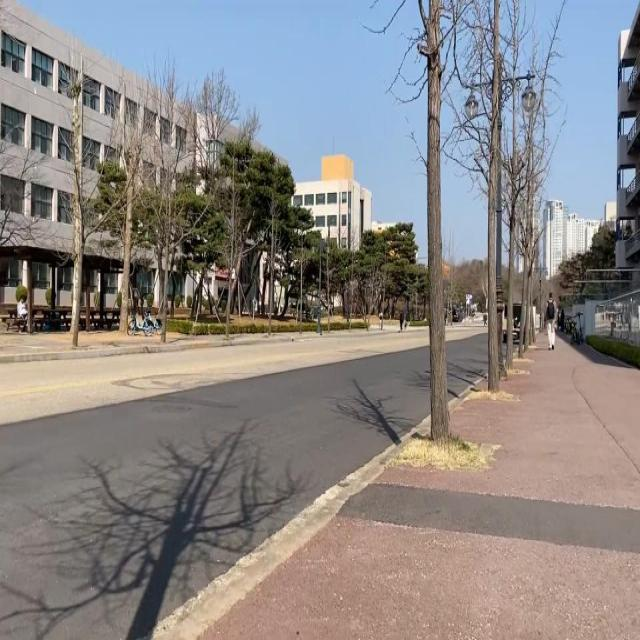sidewalk: (155, 329, 640, 640)
